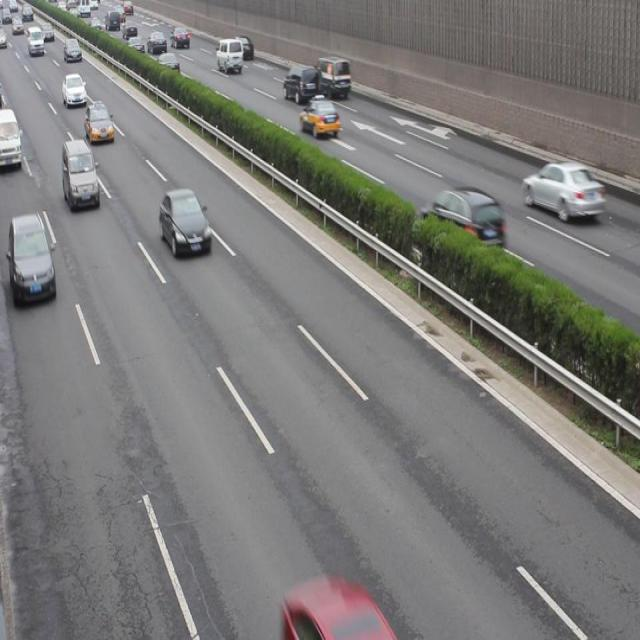car: (422, 187, 506, 252), (1, 214, 56, 305), (522, 162, 604, 223), (159, 188, 211, 258), (299, 93, 339, 137), (85, 99, 115, 144), (63, 73, 87, 106), (156, 50, 180, 76), (147, 32, 166, 56), (234, 35, 253, 59), (64, 37, 83, 61), (125, 35, 145, 57), (170, 26, 190, 47)
truck: (61, 138, 100, 210), (315, 54, 351, 100), (281, 62, 317, 103), (0, 107, 22, 167), (216, 38, 243, 72)
